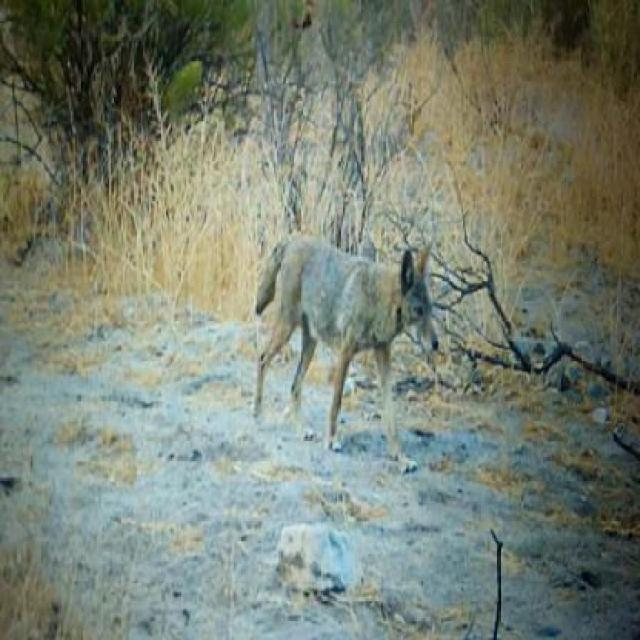Coyote: (250, 231, 439, 458)
